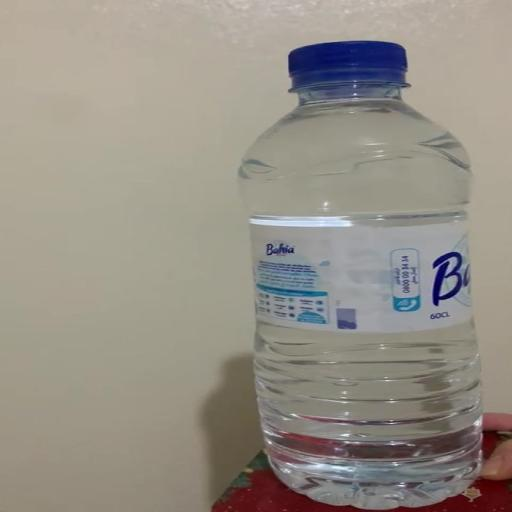bouteille conformite: (217, 46, 509, 512)
